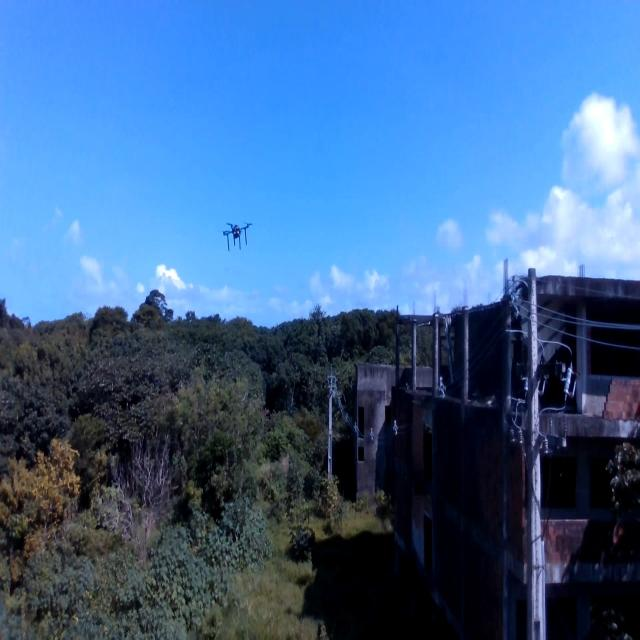-uav-: (219, 216, 254, 255)
